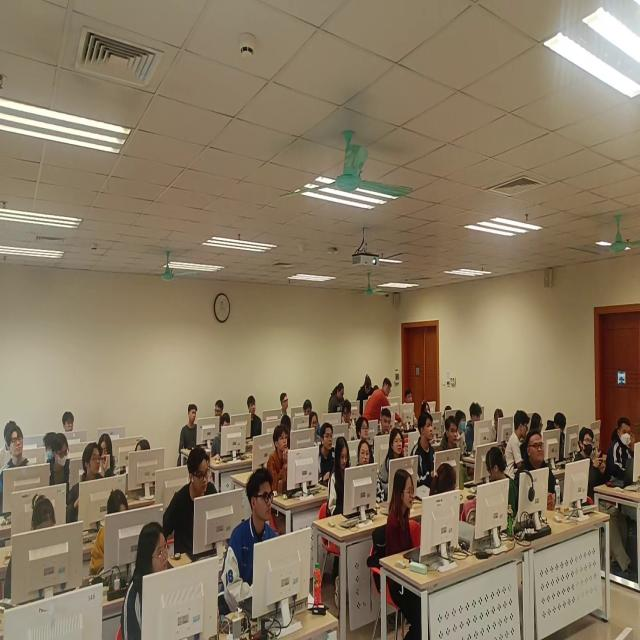raise_head: (226, 469, 310, 625), (126, 522, 203, 640), (75, 445, 124, 519), (2, 429, 43, 498), (524, 433, 558, 515), (275, 429, 310, 489), (412, 413, 440, 477), (381, 431, 414, 482), (356, 440, 384, 499), (442, 415, 466, 473), (244, 393, 267, 439), (314, 425, 336, 473), (59, 407, 85, 441), (401, 385, 422, 425), (277, 385, 299, 420)
using_computer: (6, 506, 87, 601), (391, 472, 425, 612), (181, 451, 228, 542), (103, 494, 142, 571), (48, 431, 86, 493), (128, 432, 164, 497), (335, 440, 363, 518), (176, 401, 214, 455), (609, 417, 640, 482), (213, 412, 247, 465), (550, 408, 573, 464), (468, 402, 491, 449)
using_phone: (579, 429, 608, 518)
